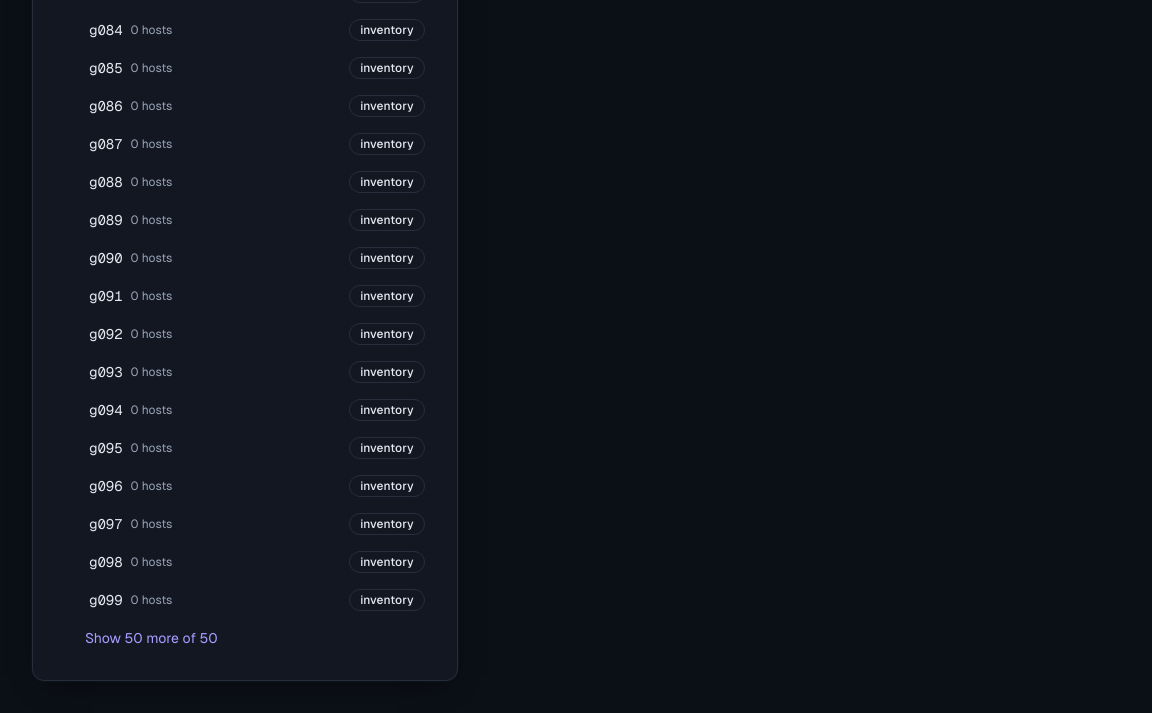
Test case: inventory group graph › shows big levels a hundred at a time
(page scrolled)
Click the list item "Show 50 more of 50" at (151, 638), box [85,630,218,646]
(page scrolled)
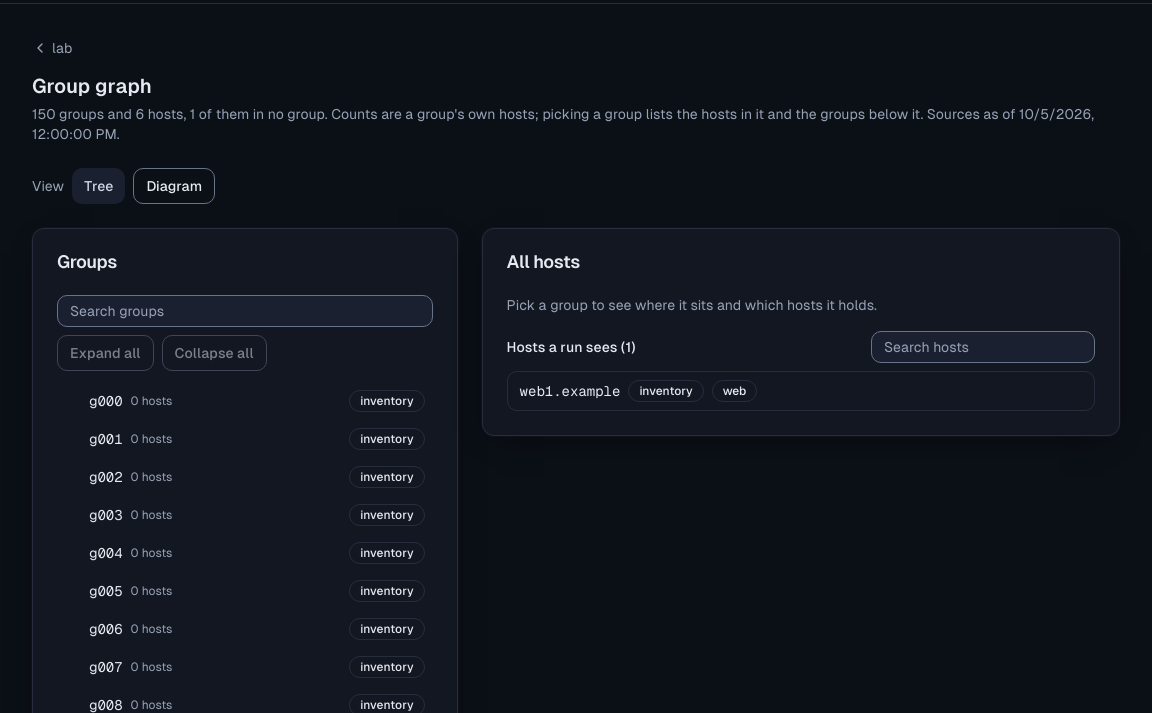
Check: the button "Expand all" is disabled, box [57,335,154,371]
Check: the number of list items is 150
